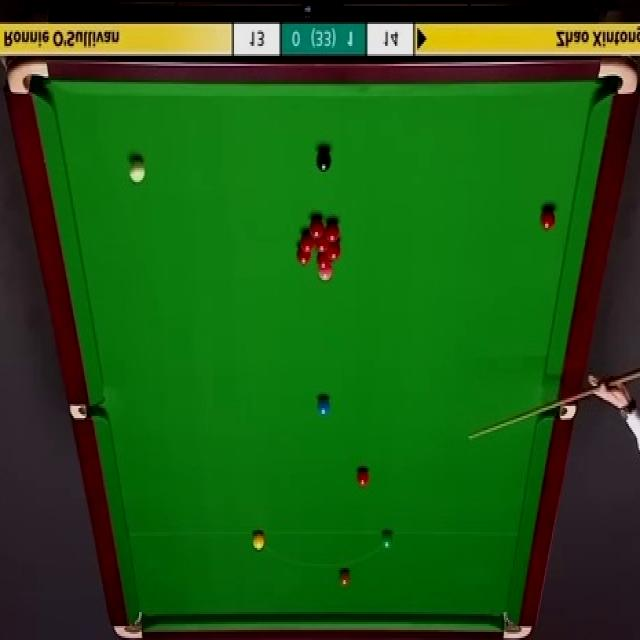black-ball: (316, 150, 331, 172)
blue-ball: (317, 397, 330, 416)
brown-ball: (338, 569, 350, 587)
green-ball: (380, 530, 393, 551)
pink-ball: (318, 266, 332, 282)
red-ball: (540, 208, 555, 231), (310, 216, 324, 238), (300, 231, 313, 253), (296, 245, 310, 265), (356, 466, 369, 487), (315, 232, 329, 250), (319, 253, 334, 269), (326, 222, 339, 240), (328, 242, 338, 259)
white-ball: (129, 160, 144, 183)
yellow-ball: (252, 532, 264, 550)
